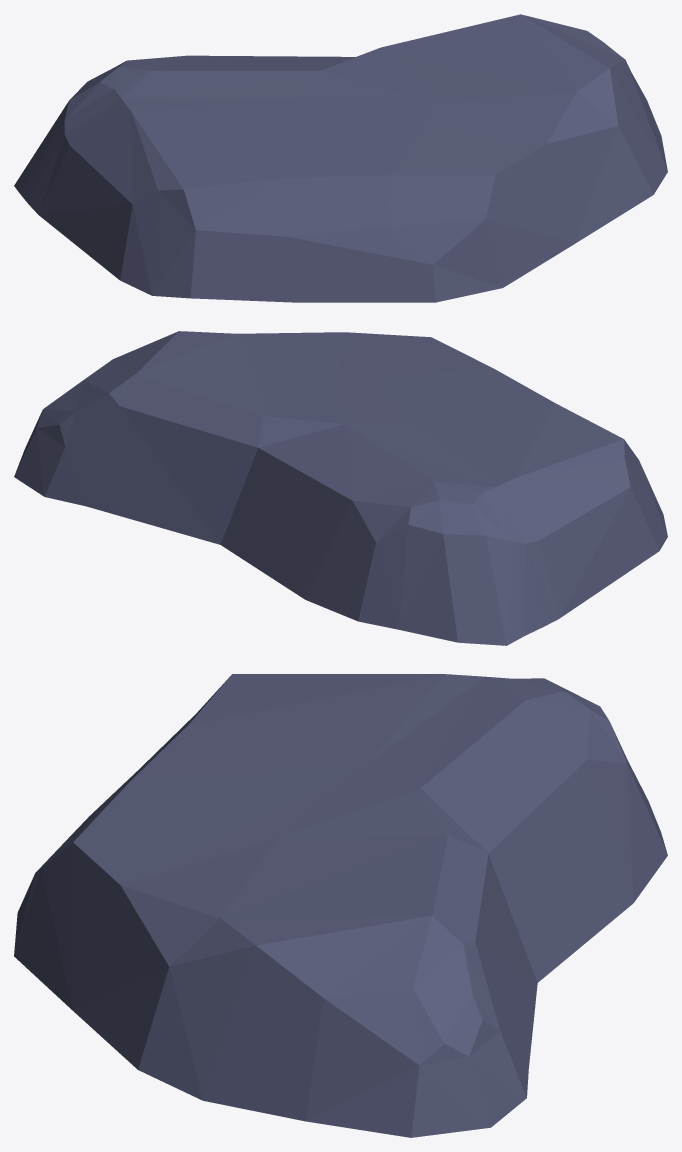
File: quaternius-nature__Pebble_Round_1__cave.fbx
3 views of the same model, one above another, from view 1: azimuth 30°, elevation 25°; view 2: azimuth 150°, elevation 25°; view 3: azimuth 270°, elevation 25° (orthographic). The views are drawn at different scales.
Visible parts, largest first — view 1: quaternius-nature__Pebble_Round_1__cave_stone; view 2: quaternius-nature__Pebble_Round_1__cave_stone; view 3: quaternius-nature__Pebble_Round_1__cave_stone.
Part boxes in pixels (x1,y1,x2,y2): quaternius-nature__Pebble_Round_1__cave_stone: (14,14,667,302); quaternius-nature__Pebble_Round_1__cave_stone: (14,331,667,645); quaternius-nature__Pebble_Round_1__cave_stone: (14,674,667,1137).
Bounding box in the file's own units: 1.79 × 0.341 × 1.31.
1 material, 1 textured.
